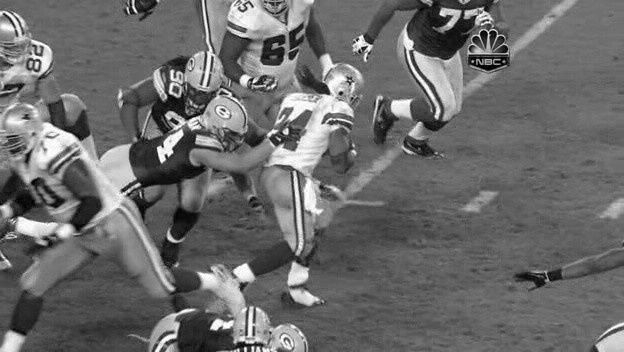person: (328, 63, 364, 108), (327, 63, 363, 108), (329, 63, 365, 108), (328, 62, 364, 107), (328, 64, 364, 109)
target_negative: (267, 27, 472, 109), (601, 112, 615, 294), (279, 64, 313, 133), (516, 320, 617, 336), (85, 250, 136, 262), (565, 286, 601, 297)
